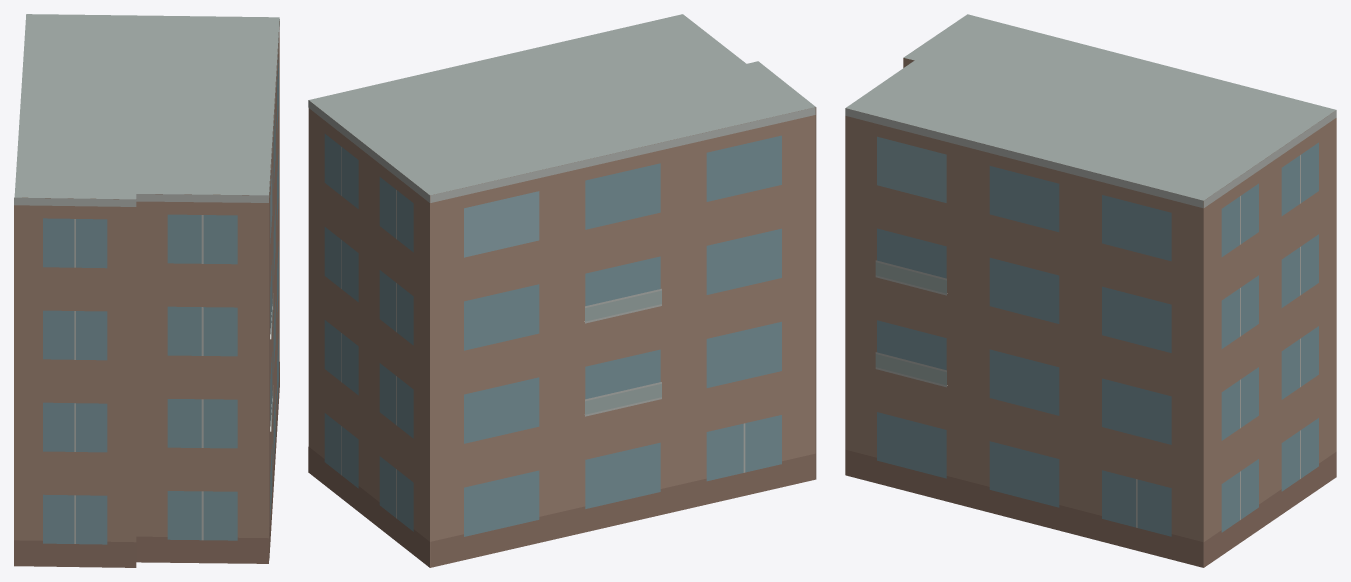
The model's file is survey-upis-32611617.glb.
3 views of the same model, side by side, from view 1: azimuth 30°, elevation 25°; view 2: azimuth 150°, elevation 25°; view 3: azimuth 270°, elevation 25° (orthographic).
Parts seen in each view (by area): view 1: survey-upis-32611617.tmp; view 2: survey-upis-32611617.tmp; view 3: survey-upis-32611617.tmp.
Part boxes in pixels (x1,y1,x2,y2): survey-upis-32611617.tmp: (14,14,279,567); survey-upis-32611617.tmp: (308,14,816,567); survey-upis-32611617.tmp: (845,14,1336,567).
Bounding box in the file's own units: 12.77 × 11.7 × 14.19.
